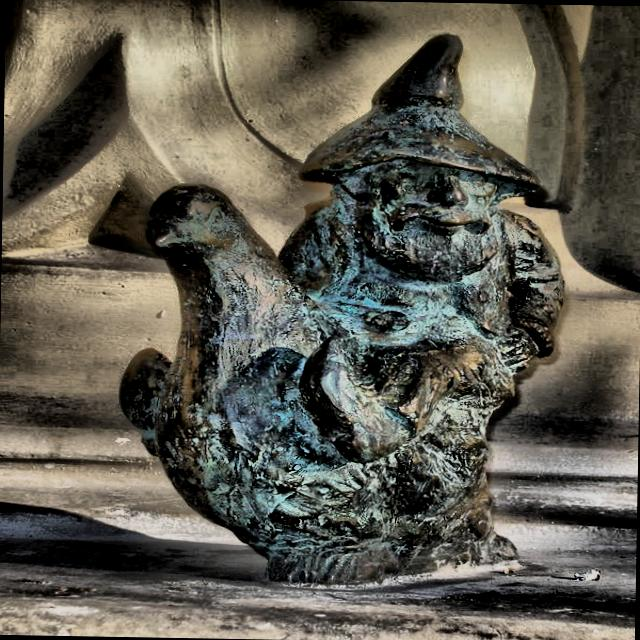Golebnik: (118, 33, 568, 587)
